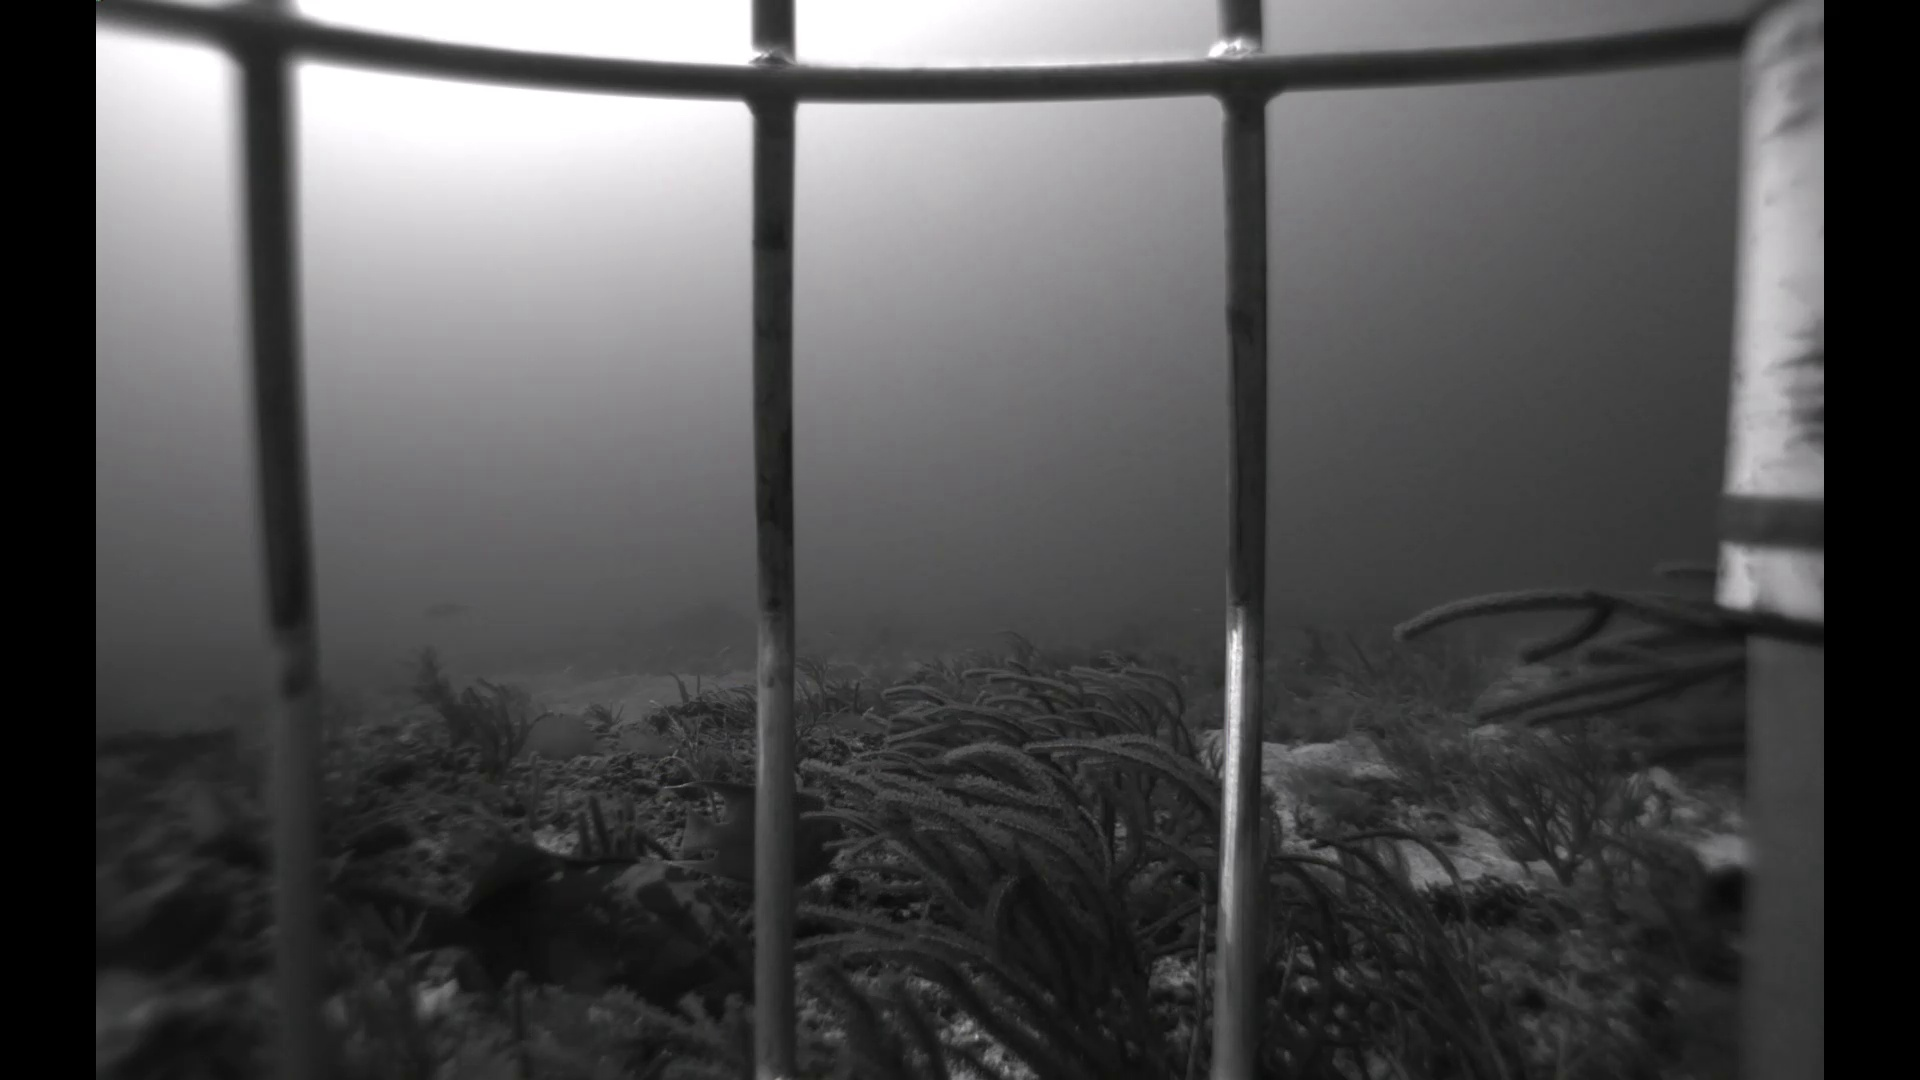CHAETODONOCELLATUS-170260307: (177, 781, 233, 847), (235, 767, 272, 831)
EPINEPHELUSMORIO-170021211: (378, 825, 753, 1050)
HOLACANTHUSBERMUDENSIS-170290102: (649, 760, 873, 899)
HYPOPLECTRUS-170021500: (1691, 849, 1756, 931)
IOGLOSSUS-170550800: (1185, 600, 1208, 617), (558, 662, 578, 676), (715, 644, 732, 655), (825, 629, 837, 640), (719, 659, 732, 669)
PAGRUSPAGRUS-170212302: (411, 592, 483, 630)
